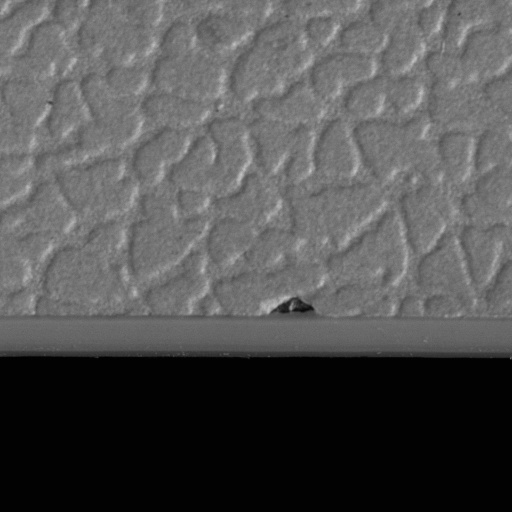bengque: (265, 294, 321, 321)
